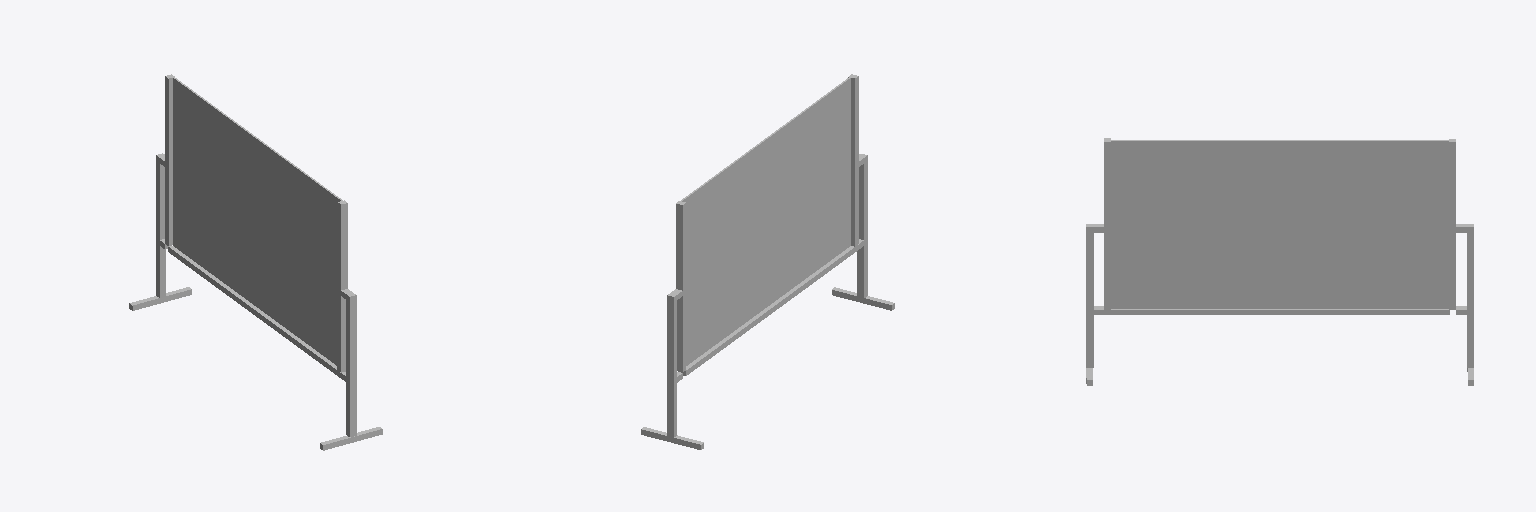
File: papan tulis.obj
The picture shows the model from 3 angles: view 1: azimuth 30°, elevation 25°; view 2: azimuth 150°, elevation 25°; view 3: azimuth 270°, elevation 25°; orthographic projection.
Visible parts, largest first — view 1: Cube.001_Cube.002, Cube.011_Cube.012, Cube.005_Cube.006, Cube_Cube.001, Cube.008_Cube.009, Cube.007_Cube.008; view 2: Cube.001_Cube.002, Cube.011_Cube.012, Cube.008_Cube.009, Cube.007_Cube.008, Cube.005_Cube.006, Cube_Cube.001; view 3: Cube.001_Cube.002, Cube.011_Cube.012, Cube.005_Cube.006, Cube.008_Cube.009, Cube_Cube.001, Cube.007_Cube.008.
Part boxes in pixels (x1,y1,x2,y2): Cube.001_Cube.002: (173,76,342,365); Cube.011_Cube.012: (168,246,340,377); Cube.005_Cube.006: (337,200,347,372); Cube_Cube.001: (346,293,356,436); Cube.008_Cube.009: (165,74,174,245); Cube.007_Cube.008: (156,153,165,297); Cube.001_Cube.002: (680,77,850,365); Cube.011_Cube.012: (681,244,858,375); Cube.008_Cube.009: (676,201,685,372); Cube.007_Cube.008: (667,293,676,437); Cube.005_Cube.006: (848,74,858,246); Cube_Cube.001: (857,154,867,297); Cube.001_Cube.002: (1111,140,1450,308); Cube.011_Cube.012: (1105,309,1449,314); Cube.005_Cube.006: (1104,138,1110,309); Cube.008_Cube.009: (1449,139,1455,309); Cube_Cube.001: (1086,224,1093,367); Cube.007_Cube.008: (1467,224,1473,367).
Bounding box in the file's own units: 1.27 × 4.71 × 7.13.